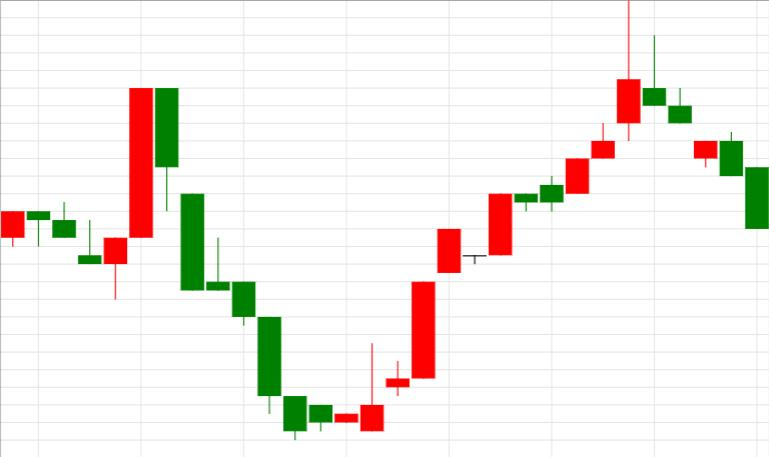shooting_star_fall: (360, 1, 641, 432)
